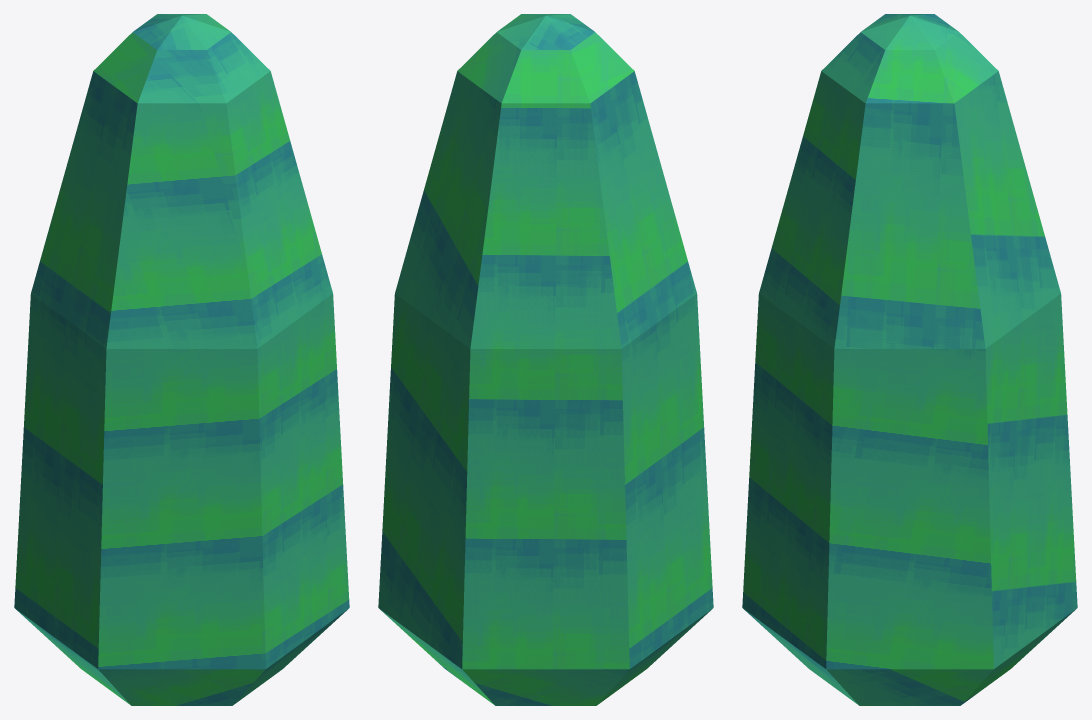
File: TreeMediumPoint.fbx
3 views of the same model, side by side, from view 1: azimuth 30°, elevation 25°; view 2: azimuth 150°, elevation 25°; view 3: azimuth 270°, elevation 25° (orthographic).
Visible parts, largest first — view 1: Circle.030; view 2: Circle.030; view 3: Circle.030.
Part boxes in pixels (x1=…): Circle.030: x1=14, y1=14, x2=349, y2=705; Circle.030: x1=378, y1=14, x2=713, y2=705; Circle.030: x1=742, y1=14, x2=1077, y2=705.
Bounding box in the file's own units: 194 × 482 × 224.
